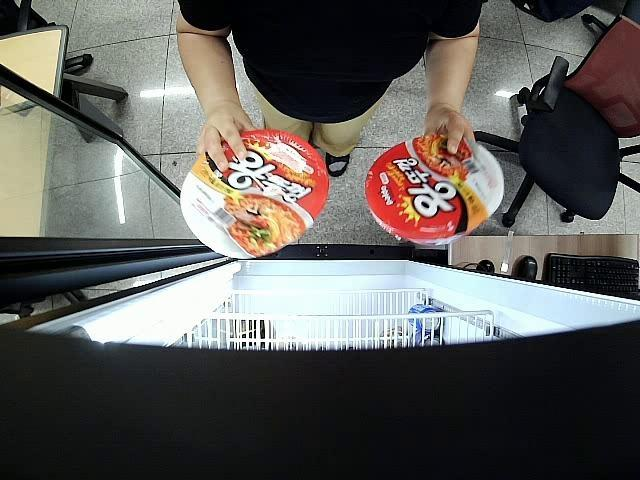10_wangTtukkeong: (180, 126, 330, 260), (366, 133, 506, 248)
